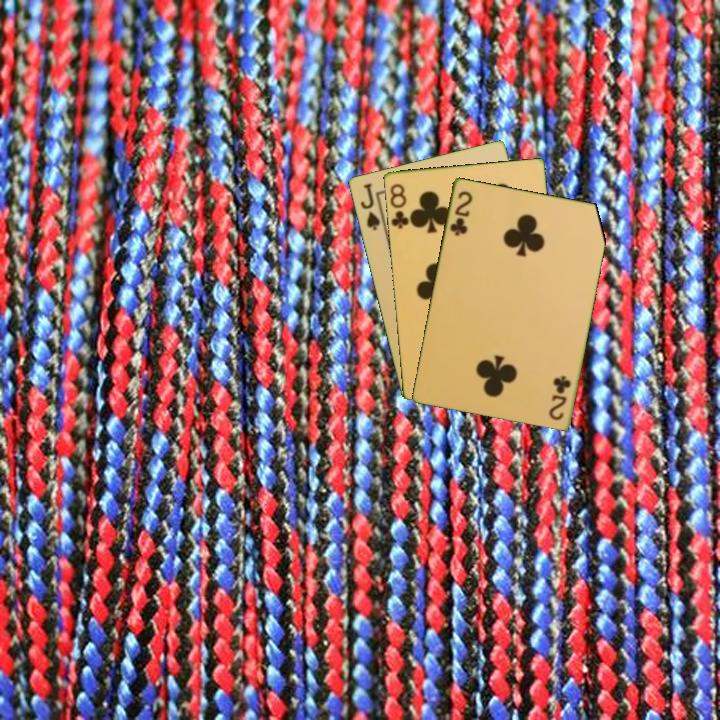2c: (446, 187, 475, 239), (546, 371, 573, 423)
8c: (386, 180, 413, 231)
Js: (357, 179, 383, 233)
